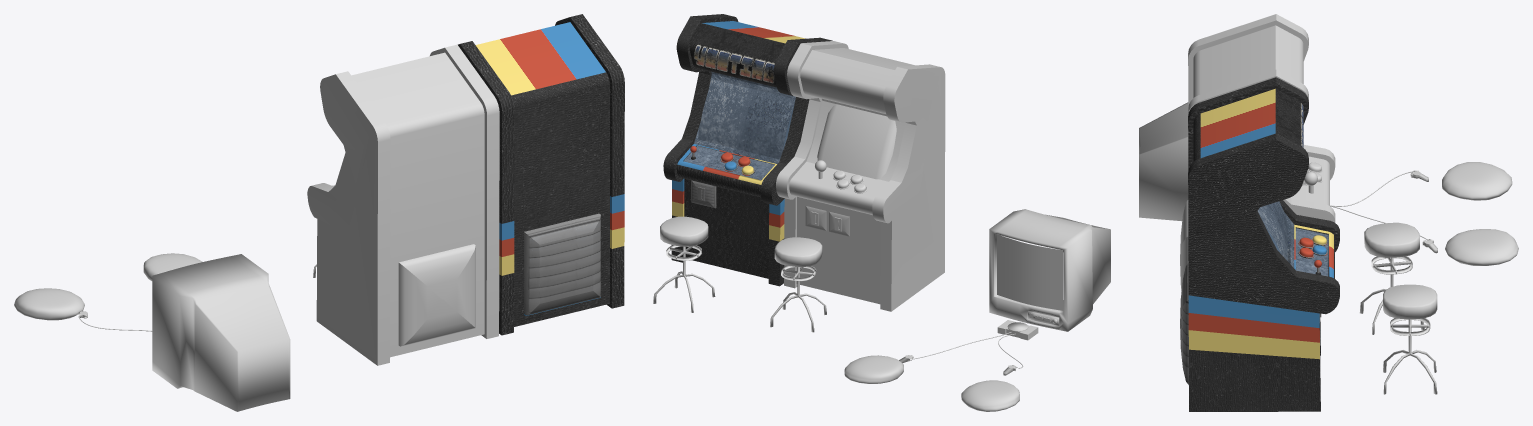
The model's file is ArcadeFolio.glb.
3 views of the same model, side by side, from view 1: azimuth 30°, elevation 25°; view 2: azimuth 150°, elevation 25°; view 3: azimuth 270°, elevation 25° (orthographic). The views are drawn at different scales.
Parts seen in each view (by area): view 1: Arcade, Cube.013, Cube.011, TV_monitor, Cube.012, Cube.026, Cube.019; view 2: Arcade, Cube.013, Cube.011, TV_monitor, Arcade.001, Cube.014, TV_Screen, Cube.008, Cube.017, Cube.026, Cube.019, CoinInserter (+1 smaller); view 3: Arcade, Cube.011, TV_monitor, Cube.013, Cube.017, Cube.008, Cube.019, Cube.026, Arcade.001, Cube.012.
Boxes of the visible parts, x1,y1,x2,y2 form: Arcade: (458, 14, 624, 335); Cube.013: (307, 44, 499, 365); Cube.011: (332, 52, 484, 357); TV_monitor: (152, 254, 290, 411); Cube.012: (398, 244, 475, 346); Cube.026: (14, 288, 84, 320); Cube.019: (143, 253, 202, 280); Arcade: (663, 14, 832, 286); Cube.013: (776, 41, 945, 311); Cube.011: (789, 48, 914, 304); TV_monitor: (989, 209, 1110, 331); Arcade.001: (697, 79, 795, 159); Cube.014: (817, 104, 896, 179); TV_Screen: (997, 234, 1063, 310); Cube.008: (770, 237, 826, 332); Cube.017: (653, 216, 715, 312); Cube.026: (961, 380, 1019, 411); Cube.019: (844, 355, 903, 383); CoinInserter: (691, 180, 716, 208); Arcade: (1180, 77, 1339, 411); Cube.011: (1193, 25, 1329, 205); TV_monitor: (1139, 102, 1188, 221); Cube.013: (1188, 14, 1335, 222); Cube.017: (1383, 284, 1437, 394); Cube.008: (1359, 222, 1424, 334); Cube.019: (1445, 229, 1518, 265); Cube.026: (1442, 162, 1512, 200); Arcade.001: (1257, 201, 1287, 260); Cube.012: (1180, 200, 1188, 291).
Size of the model in its own units: 7.99 by 4.27 by 5.39.
Materials: 3 (2 with a texture image).
